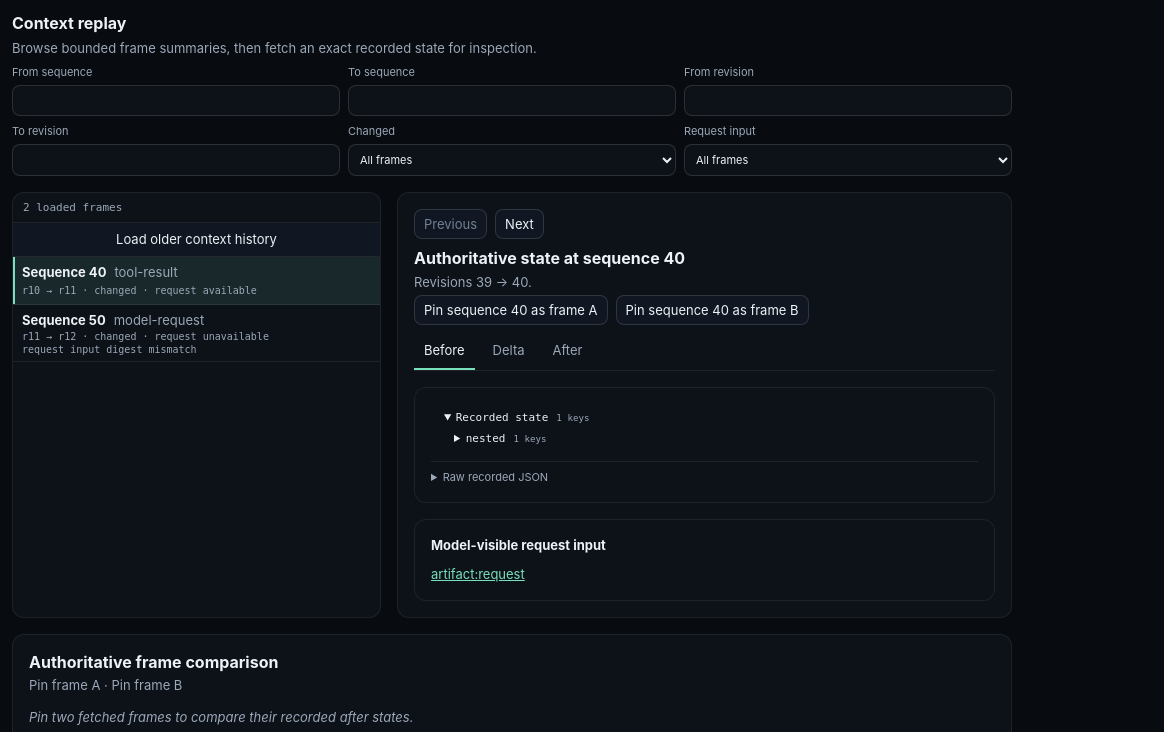
Test case: ContextView › uses structured collapsible state as primary detail and raw JSON as secondary disclosure
Expected: the element named "Before recorded context state" is shown, [456,410,589,445]
Expected: the heading "nested1 keys" is shown, [466,432,546,446]
Click the heading "Raw recorded JSON" at (495, 477), box [443,470,548,484]
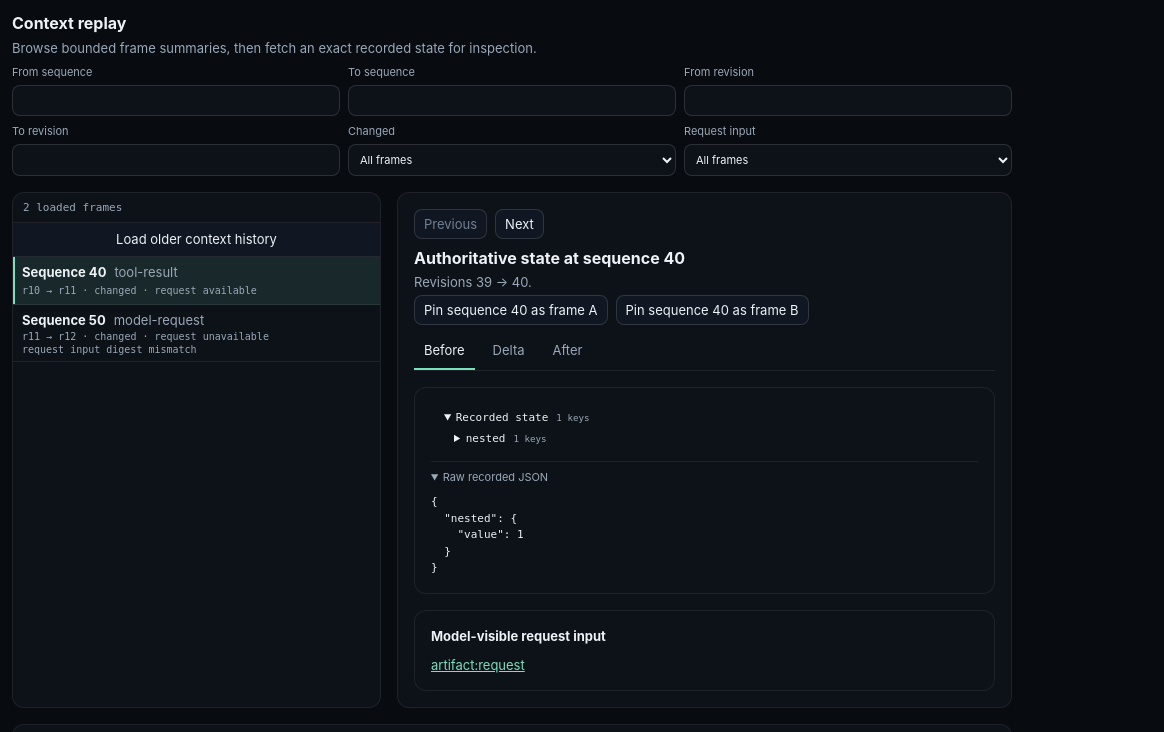
Now the text "{ \"nested\": { \"value\": 1 } }" is shown, box [431,495,524,574]
